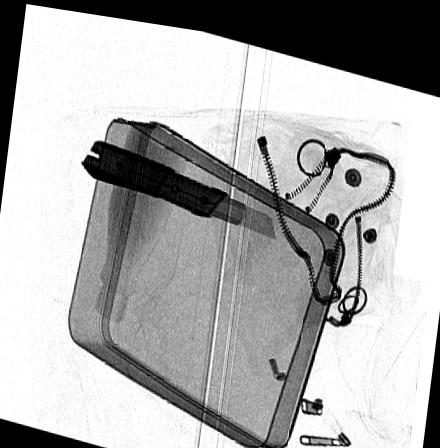Knife: (79, 136, 276, 232)
